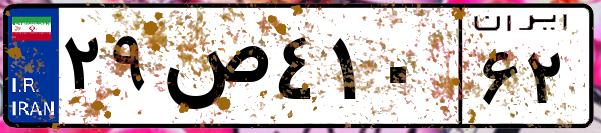0: (385, 28, 445, 110)
1: (330, 28, 385, 110)
2: (57, 26, 110, 100), (525, 38, 570, 115)
4: (270, 28, 330, 110)
6: (475, 38, 525, 113)
9: (110, 28, 158, 98)
ص: (158, 20, 270, 120)
